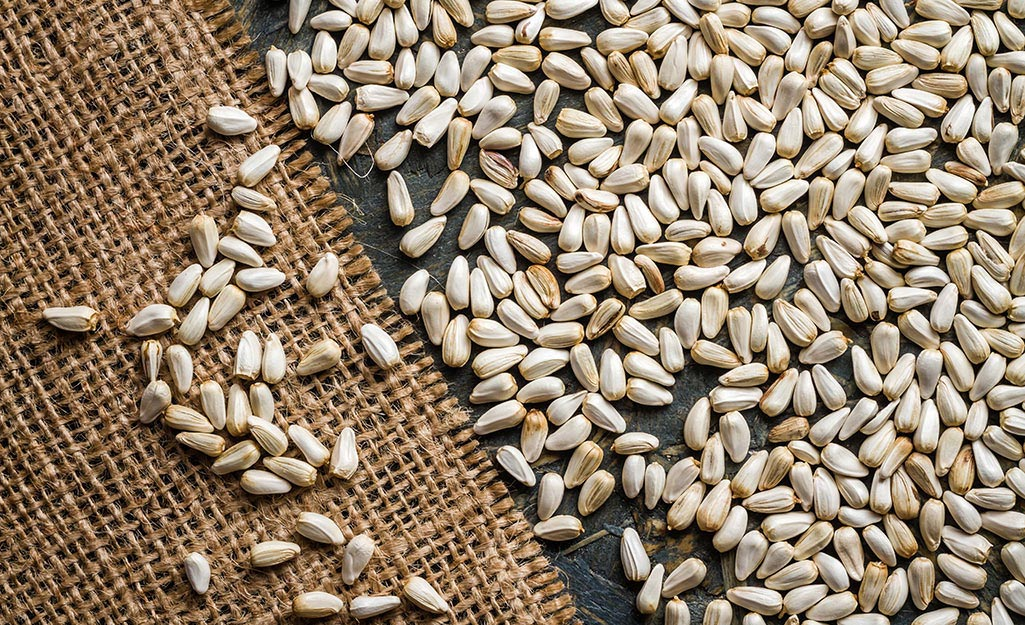seed: (257, 4, 1025, 621), (33, 100, 449, 625)
